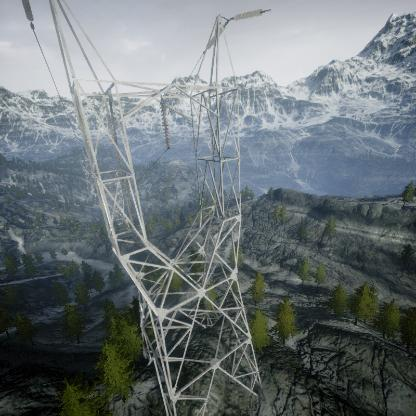tower: (18, 0, 273, 416)
